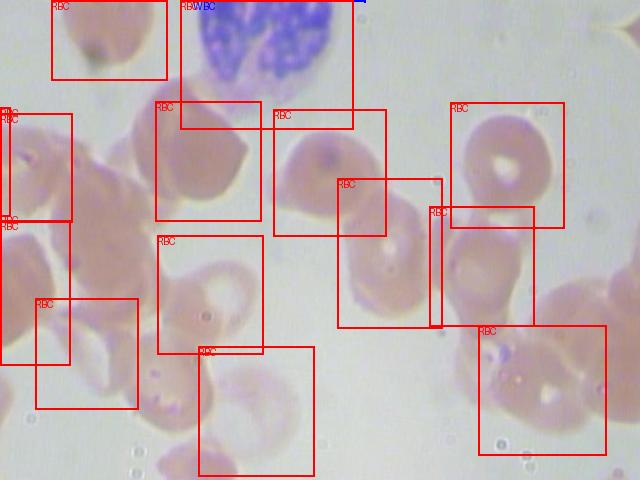RBC: (180, 0, 353, 129), (478, 325, 606, 455), (337, 178, 442, 328), (198, 346, 314, 476), (450, 102, 564, 228), (273, 109, 386, 236), (155, 101, 261, 221), (157, 235, 263, 354), (429, 206, 534, 326), (35, 298, 138, 409), (0, 220, 70, 365), (51, 0, 167, 80), (0, 113, 72, 222), (0, 107, 10, 216)
WBC: (193, 0, 365, 1)
